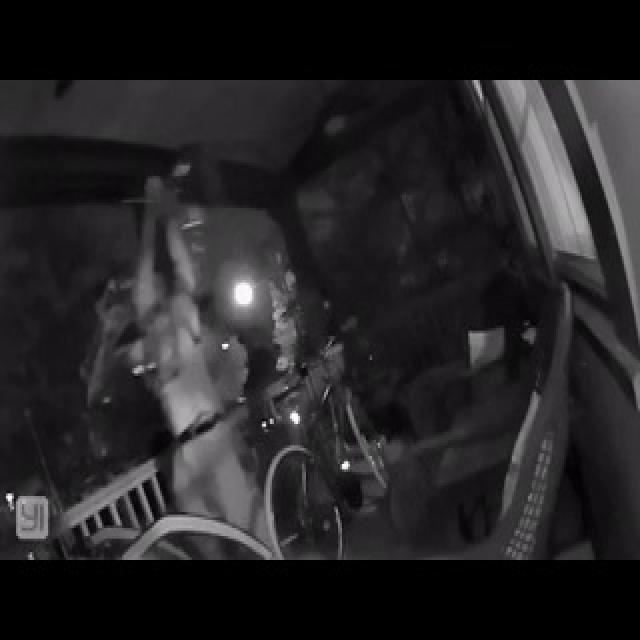thief: (90, 202, 278, 558)
